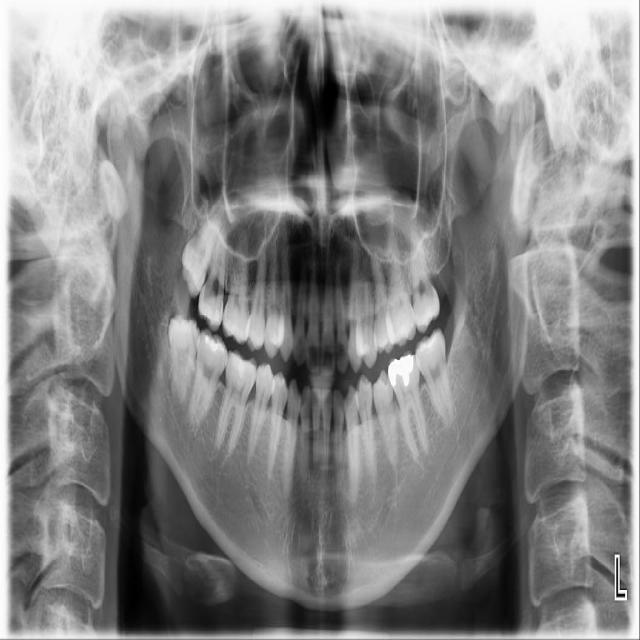3M ESPE Implant: (169, 211, 226, 302)
52: (404, 326, 458, 378), (189, 323, 236, 382), (408, 280, 445, 338), (384, 348, 424, 390), (196, 283, 224, 333)
73: (618, 608, 626, 622)
BioHorizons Implant: (400, 206, 444, 337)
Blue Sky Bio Implant: (411, 326, 456, 433)
Caries: (195, 217, 229, 333)
Implant: (187, 326, 231, 434)
Keystone Dental Implant: (167, 313, 203, 407)
